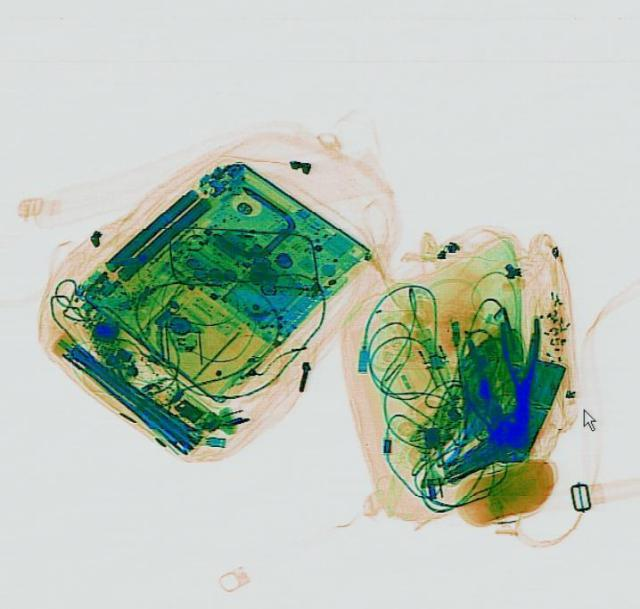Pliers: (496, 316, 542, 429)
